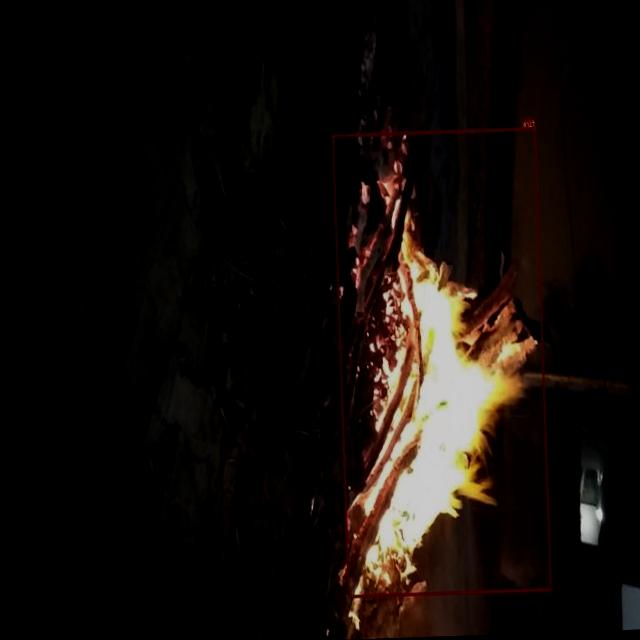fire: (332, 127, 552, 598)
